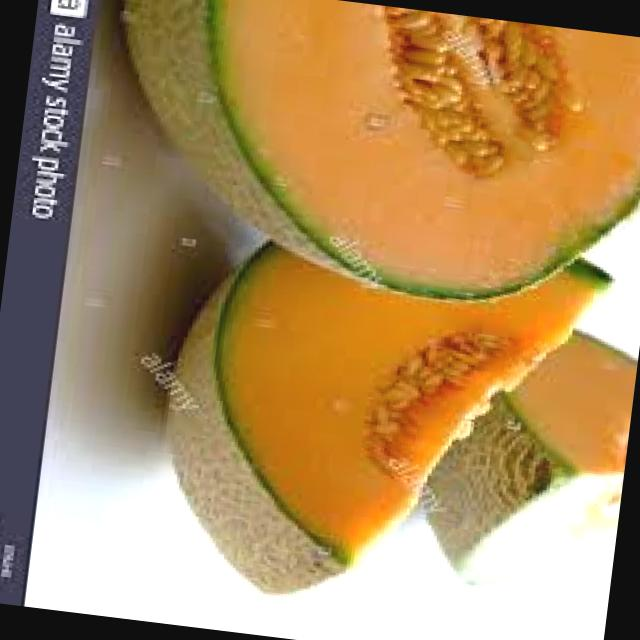cantaloupe: (147, 213, 614, 632), (89, 0, 640, 327)
